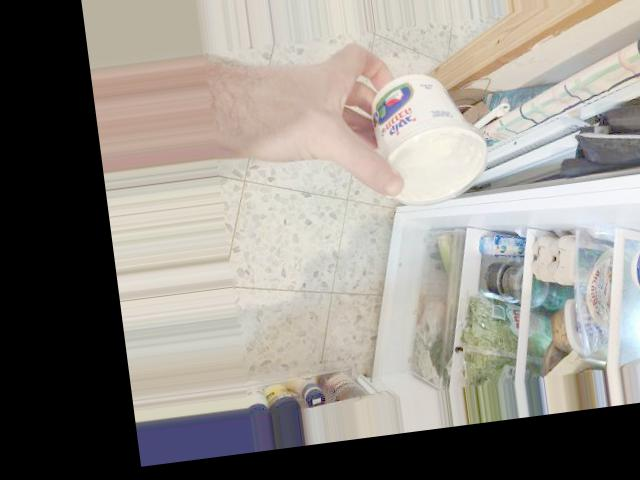cotage: (369, 78, 500, 193)
